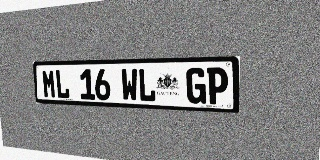1: (79, 69, 95, 100)
6: (94, 69, 111, 100)
G: (186, 68, 206, 104)
L: (138, 68, 156, 102), (55, 69, 70, 99)
M: (42, 69, 56, 98)
P: (207, 67, 228, 105)
W: (121, 68, 138, 101)
